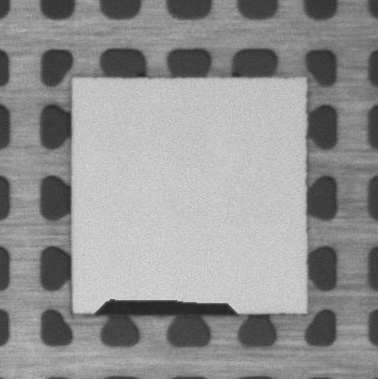DIE_BROKEN: (89, 296, 238, 317)
